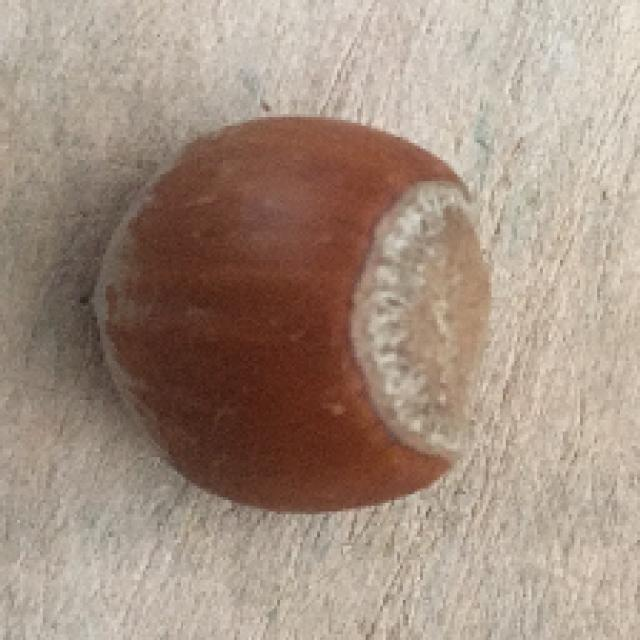qualityHazelnut: (86, 110, 480, 517)
